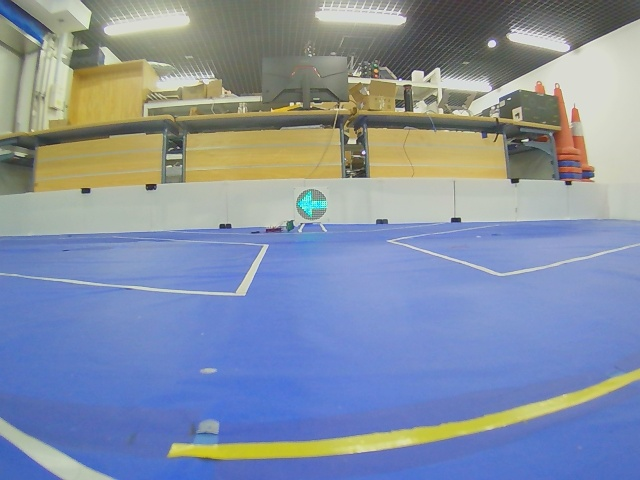left_green: (296, 189, 327, 221)
